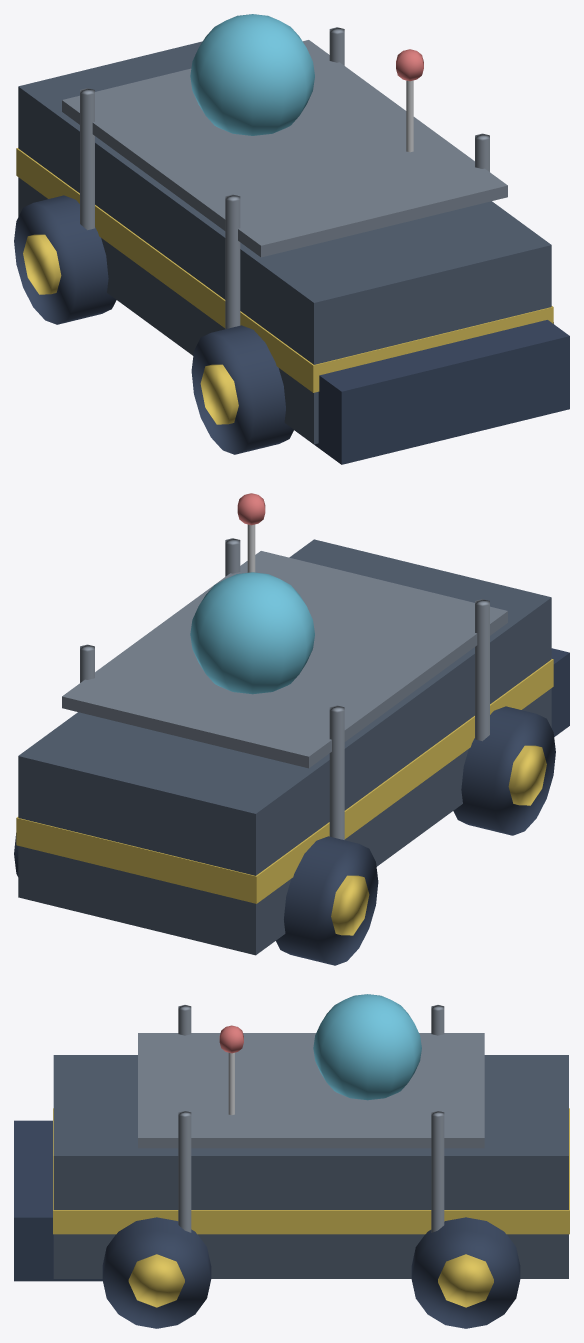
File: storm-chaser-vehicle.glb
3 views of the same model, one above another, from view 1: azimuth 30°, elevation 25°; view 2: azimuth 150°, elevation 25°; view 3: azimuth 270°, elevation 25° (orthographic). The views are drawn at different scales.
Visible parts, largest first — view 1: Root; view 2: Root; view 3: Root.
Part boxes in pixels (x1,y1,x2,y2): Root: [14, 14, 569, 464]; Root: [14, 493, 569, 965]; Root: [14, 994, 569, 1328].
Bounding box in the file's own units: 3.37 × 3.2 × 5.93.
